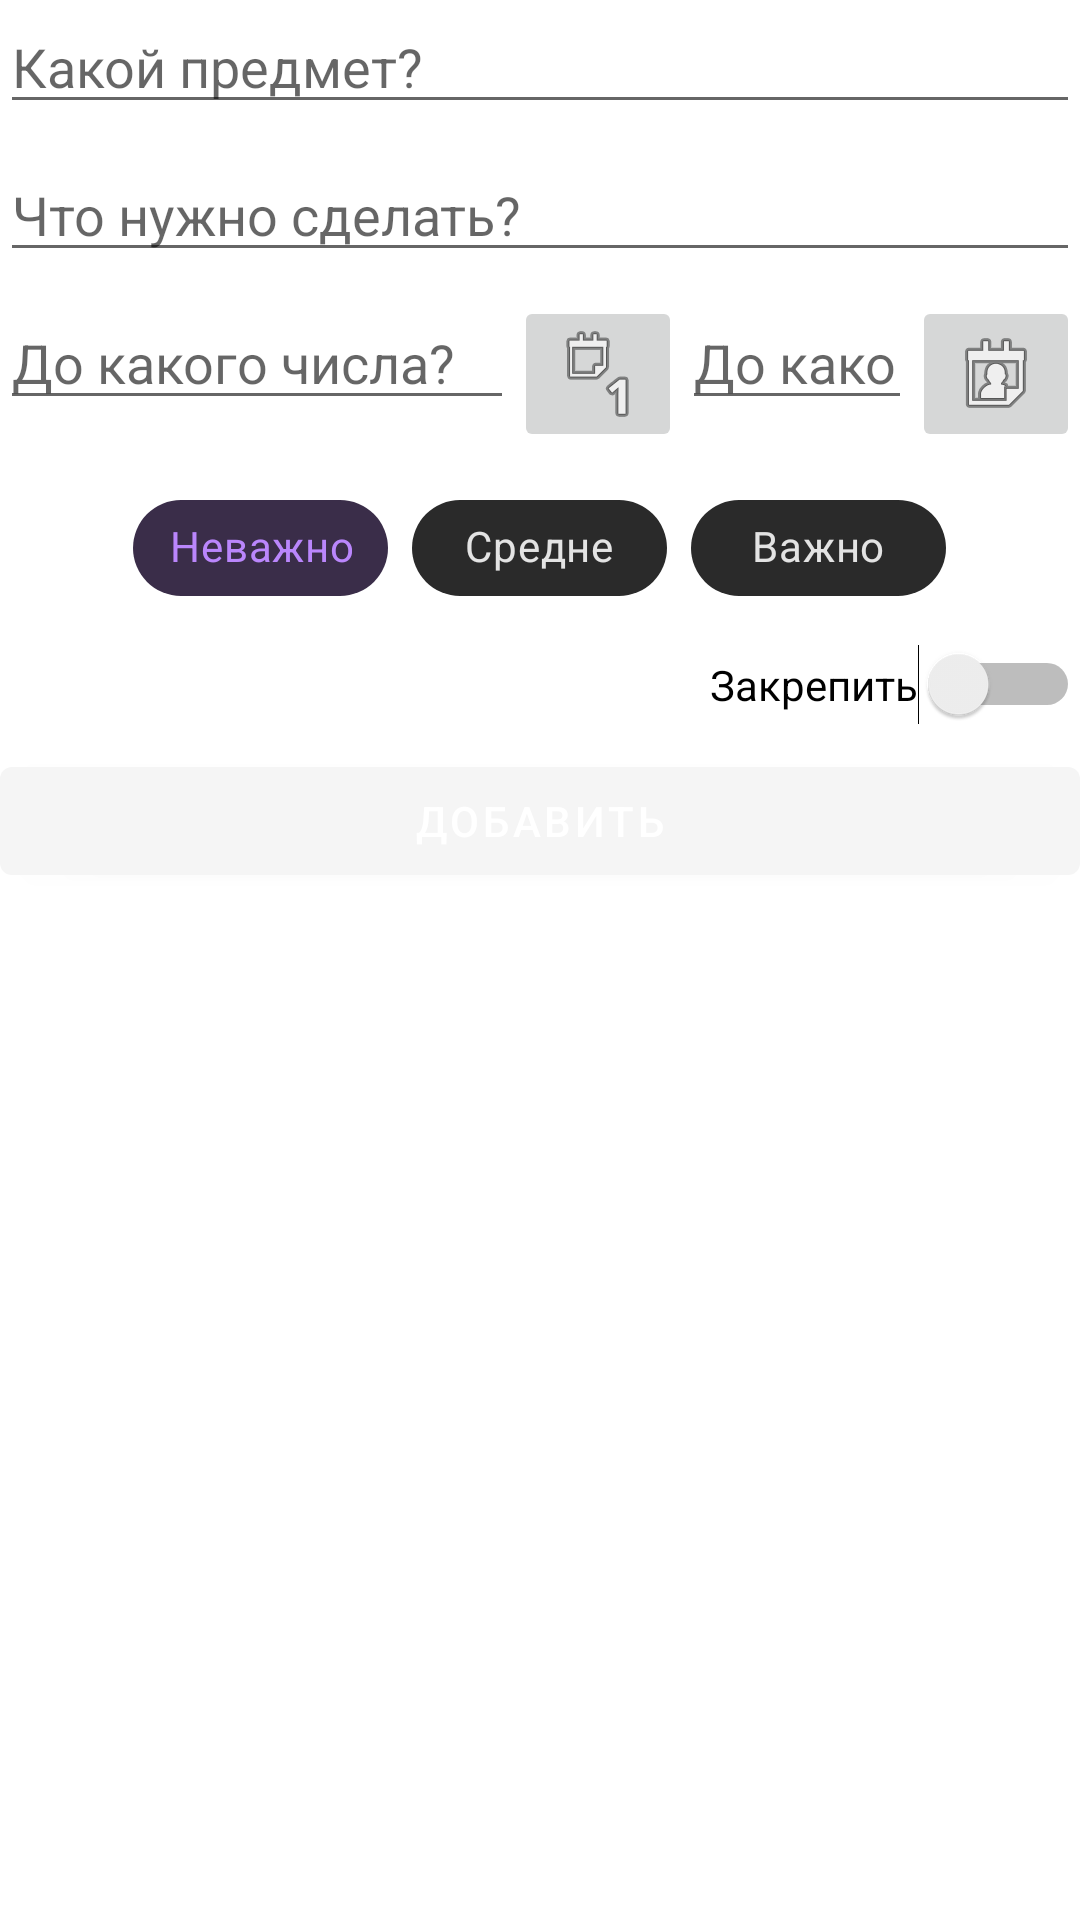

Named icons in this screenshot (1080x1920) and their centers, (x,y):
calendar: (996,374)
day: (598,374)
